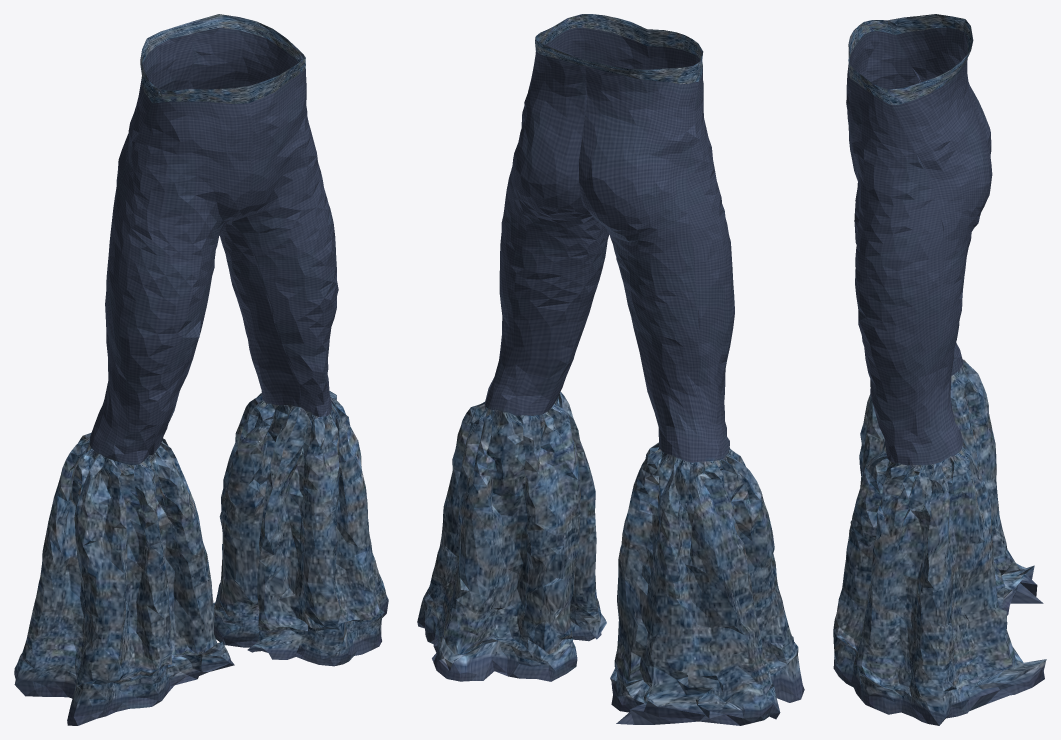
File: mhw_elvs_disco_pants_single_ruffles.glb
3 renders of one model, left to right at view 1: azimuth 30°, elevation 25°; view 2: azimuth 150°, elevation 25°; view 3: azimuth 270°, elevation 25°, orthographic. The views are drawn at different scales.
Visible parts, largest first — view 1: mhw_elvs_disco_pants_single_ruffles; view 2: mhw_elvs_disco_pants_single_ruffles; view 3: mhw_elvs_disco_pants_single_ruffles.
Boxes of the visible parts, bbox=[...] form: mhw_elvs_disco_pants_single_ruffles: bbox=[14, 14, 388, 725]; mhw_elvs_disco_pants_single_ruffles: bbox=[417, 14, 804, 725]; mhw_elvs_disco_pants_single_ruffles: bbox=[833, 14, 1046, 725].
Bounding box in the file's own units: 0.7167 × 1.18 × 0.3728.
Materials: 1 (1 with a texture image).
